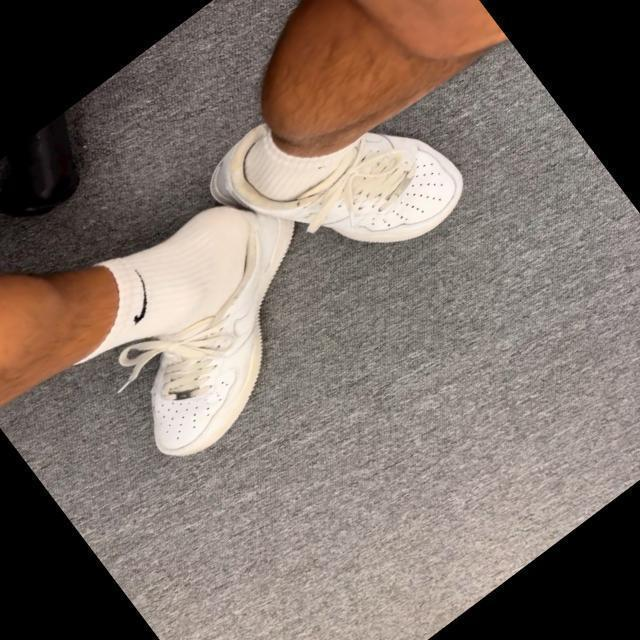nike original air force: (55, 162, 374, 472), (191, 35, 484, 324)
